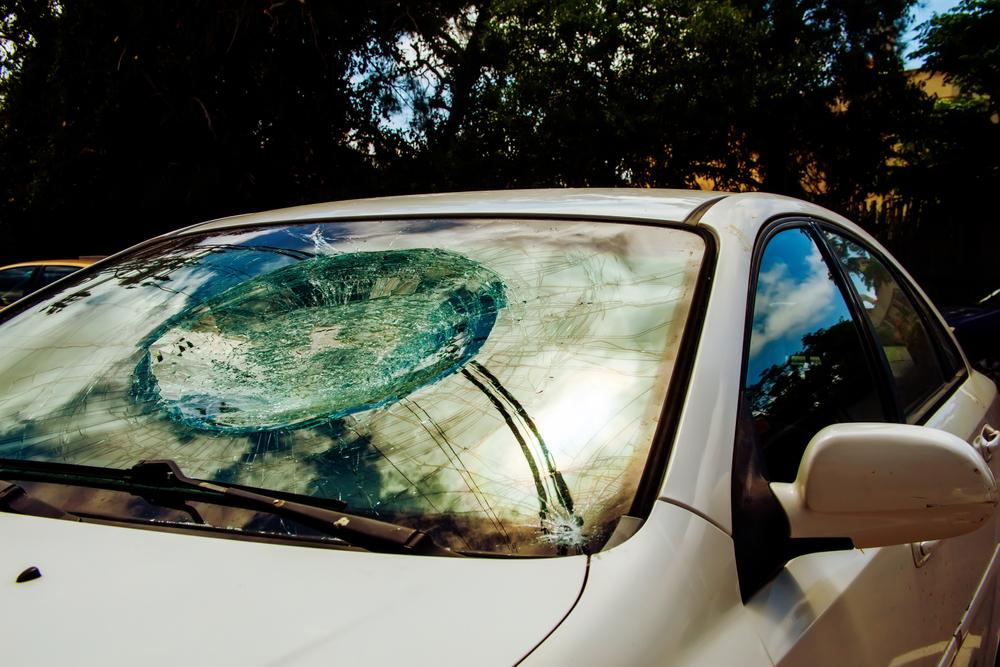glass shatter: (0, 218, 705, 555)
